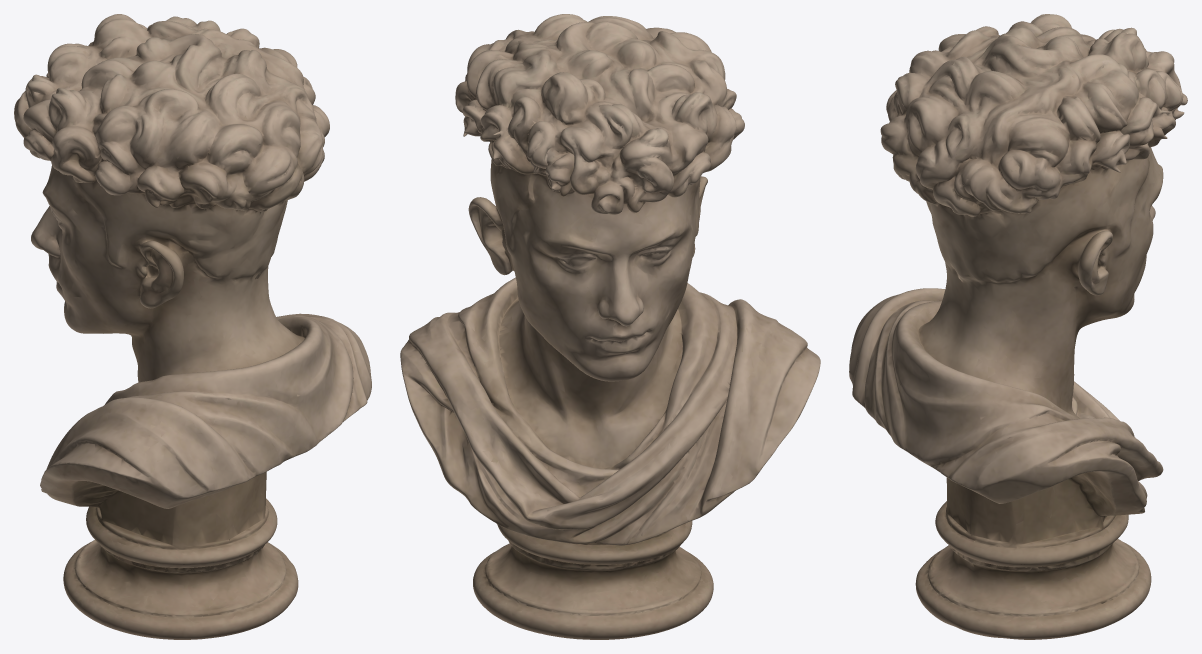
The model's file is decimated.glb.
3 views of the same model, side by side, from view 1: azimuth 30°, elevation 25°; view 2: azimuth 150°, elevation 25°; view 3: azimuth 270°, elevation 25° (orthographic). The views are drawn at different scales.
Visible parts, largest first — view 1: world; view 2: world; view 3: world.
Boxes of the visible parts, x1,y1,x2,y2 form: world: (14, 14, 371, 639); world: (400, 14, 820, 639); world: (849, 14, 1187, 639).
Bounding box in the file's own units: 0.5501 × 0.8552 × 0.467.
1 material, 1 textured.
